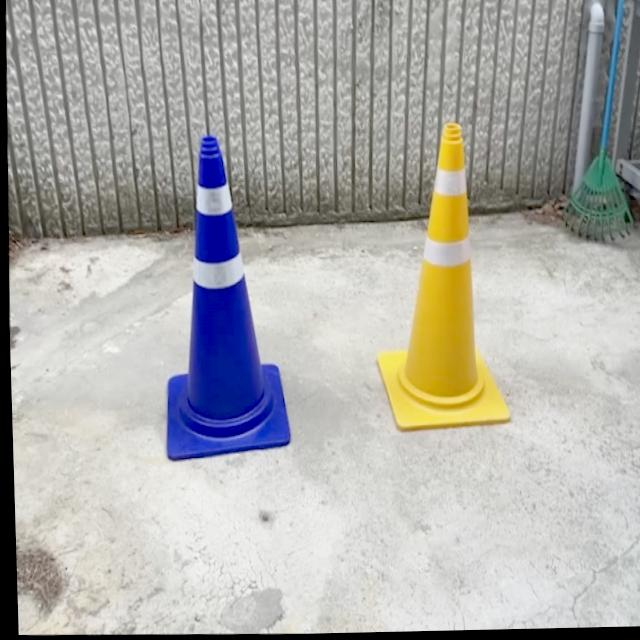b_rub: (163, 134, 287, 460)
y_rub: (375, 124, 508, 432)
